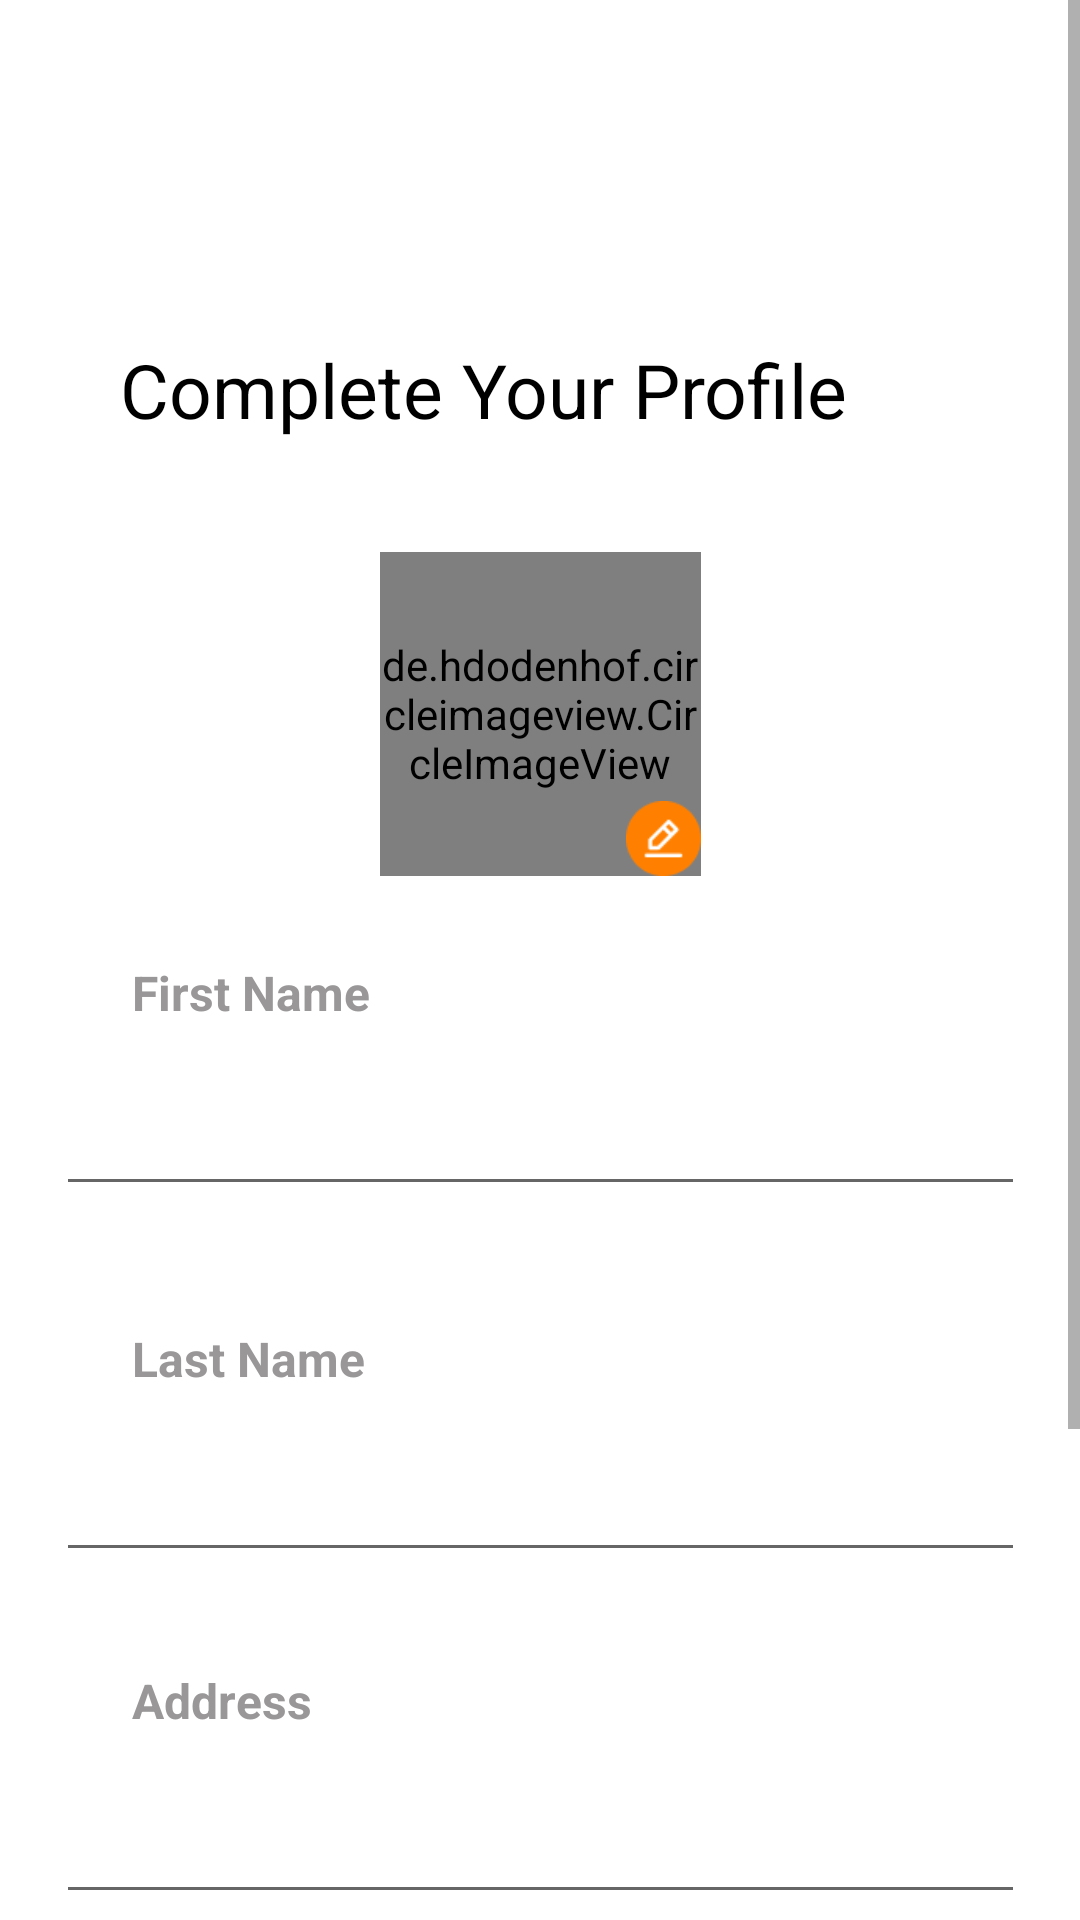

Icon click points for this 1080x1920 phone screenshot, format (x,y):
edit: (663,838)
